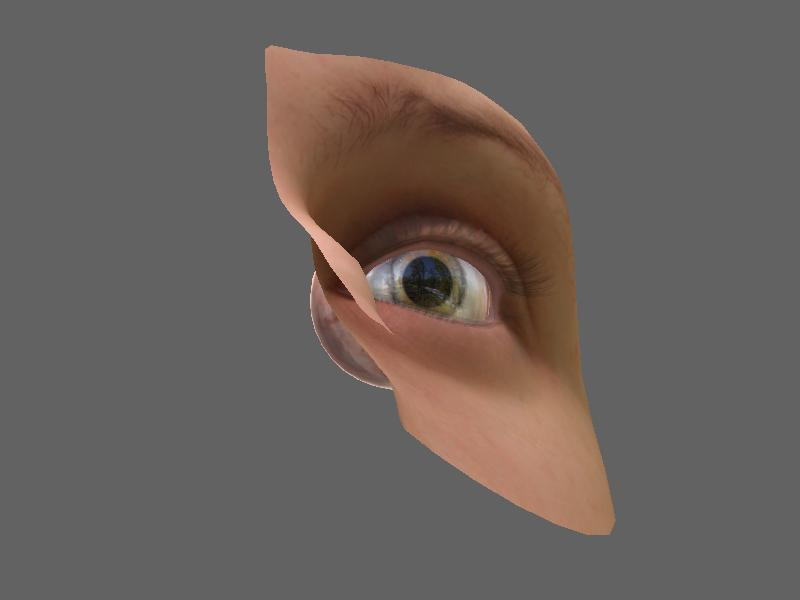iris: (391, 249, 466, 316)
